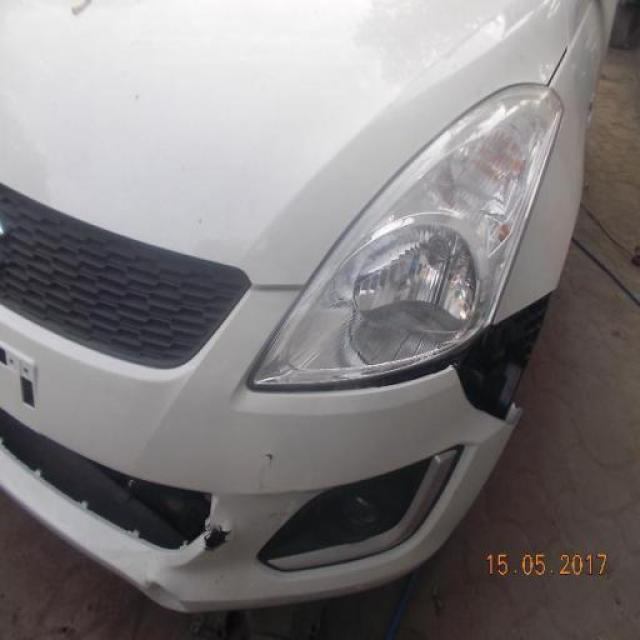dent: (141, 578, 187, 615)
scratch: (202, 525, 230, 557), (256, 439, 283, 468)
tear: (250, 291, 557, 428)
